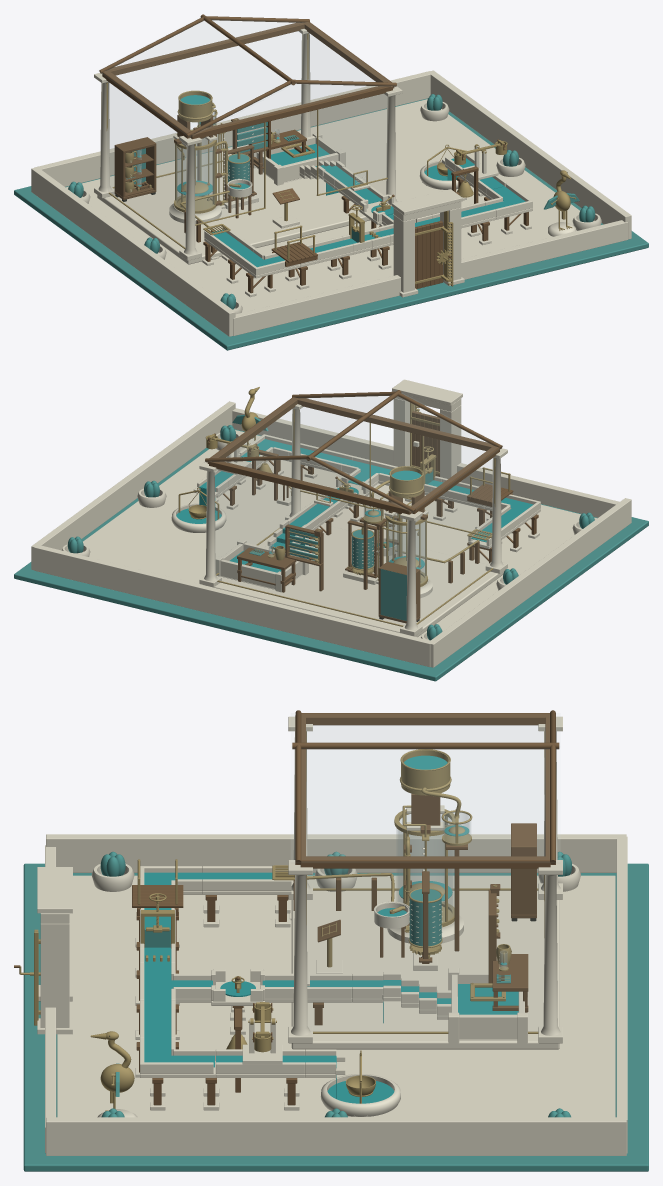
Rendered from water-clock-garden-and-hydraulic-puzzles-973a92bd-starter-scene__31971.glb.
The picture shows the model from 3 angles, top to bottom: view 1: azimuth 30°, elevation 25°; view 2: azimuth 150°, elevation 25°; view 3: azimuth 270°, elevation 25°; orthographic projection. The views are drawn at different scales.
Visible parts, largest first — view 1: 000-hydraulic-garden-landscape-base/0, 001-roofed-hydraulic-clock-pavilion/3, 001-roofed-hydraulic-clock-pavilion/1, 000-hydraulic-garden-landscape-base/1, 001-roofed-hydraulic-clock-pavilion/0, 075-archway-door-surround/0, 016-timekeepers-service-cabinet/0, 002-cylindrical-float-clock-tower/3, 074-geared-puzzle-door/0, 044-overflow-receiving-cistern/0, 002-cylindrical-float-clock-tower/2, 001-roofed-hydraulic-clock-pavilion/2 (+14 smaller); view 2: 000-hydraulic-garden-landscape-base/0, 001-roofed-hydraulic-clock-pavilion/3, 001-roofed-hydraulic-clock-pavilion/1, 000-hydraulic-garden-landscape-base/1, 001-roofed-hydraulic-clock-pavilion/0, 075-archway-door-surround/0, 044-overflow-receiving-cistern/0, 001-roofed-hydraulic-clock-pavilion/2, 002-cylindrical-float-clock-tower/3, 016-timekeepers-service-cabinet/2, 015-clock-calibration-bench/0, 074-geared-puzzle-door/0 (+18 smaller); view 3: 000-hydraulic-garden-landscape-base/0, 001-roofed-hydraulic-clock-pavilion/1, 001-roofed-hydraulic-clock-pavilion/3, 000-hydraulic-garden-landscape-base/1, 001-roofed-hydraulic-clock-pavilion/0, 075-archway-door-surround/0, 044-overflow-receiving-cistern/0, 016-timekeepers-service-cabinet/0, 002-cylindrical-float-clock-tower/3, 030-open-channel-straight/0, 007-constant-head-header-vessel/2, 041-open-channel-straight/0 (+27 smaller).
Part boxes in pixels (<box>): 000-hydraulic-garden-landscape-base/0: <box>31,70,631,336</box>; 001-roofed-hydraulic-clock-pavilion/3: <box>107,20,386,187</box>; 001-roofed-hydraulic-clock-pavilion/1: <box>94,28,402,264</box>; 000-hydraulic-garden-landscape-base/1: <box>14,94,648,350</box>; 001-roofed-hydraulic-clock-pavilion/0: <box>99,14,396,139</box>; 075-archway-door-surround/0: <box>392,189,464,297</box>; 016-timekeepers-service-cabinet/0: <box>114,137,156,199</box>; 002-cylindrical-float-clock-tower/3: <box>175,138,214,210</box>; 074-geared-puzzle-door/0: <box>415,221,451,289</box>; 044-overflow-receiving-cistern/0: <box>253,132,345,185</box>; 002-cylindrical-float-clock-tower/2: <box>174,129,216,213</box>; 001-roofed-hydraulic-clock-pavilion/2: <box>106,33,387,248</box>; 000-hydraulic-garden-landscape-base/0: <box>31,401,631,667</box>; 001-roofed-hydraulic-clock-pavilion/3: <box>215,396,492,574</box>; 001-roofed-hydraulic-clock-pavilion/1: <box>199,404,507,637</box>; 000-hydraulic-garden-landscape-base/1: <box>14,425,648,681</box>; 001-roofed-hydraulic-clock-pavilion/0: <box>205,390,502,514</box>; 075-archway-door-surround/0: <box>392,379,462,478</box>; 044-overflow-receiving-cistern/0: <box>215,539,308,592</box>; 001-roofed-hydraulic-clock-pavilion/2: <box>216,409,495,626</box>; 002-cylindrical-float-clock-tower/3: <box>388,514,426,583</box>; 016-timekeepers-service-cabinet/2: <box>380,569,406,620</box>; 015-clock-calibration-bench/0: <box>237,547,296,592</box>; 074-geared-puzzle-door/0: <box>412,411,439,476</box>; 000-hydraulic-garden-landscape-base/0: <box>45,834,627,1155</box>; 001-roofed-hydraulic-clock-pavilion/1: <box>288,716,562,1049</box>; 001-roofed-hydraulic-clock-pavilion/3: <box>291,725,543,888</box>; 000-hydraulic-garden-landscape-base/1: <box>23,851,648,1171</box>; 001-roofed-hydraulic-clock-pavilion/0: <box>292,710,559,868</box>; 075-archway-door-surround/0: <box>37,867,72,1034</box>; 044-overflow-receiving-cistern/0: <box>448,968,527,1045</box>; 016-timekeepers-service-cabinet/0: <box>511,823,536,918</box>; 002-cylindrical-float-clock-tower/3: <box>396,814,454,922</box>; 030-open-channel-straight/0: <box>202,866,291,894</box>; 007-constant-head-header-vessel/2: <box>399,749,461,817</box>; 041-open-channel-straight/0: <box>265,973,351,1002</box>.
Bounding box in the file's own units: 16 × 5.94 × 14.22.
